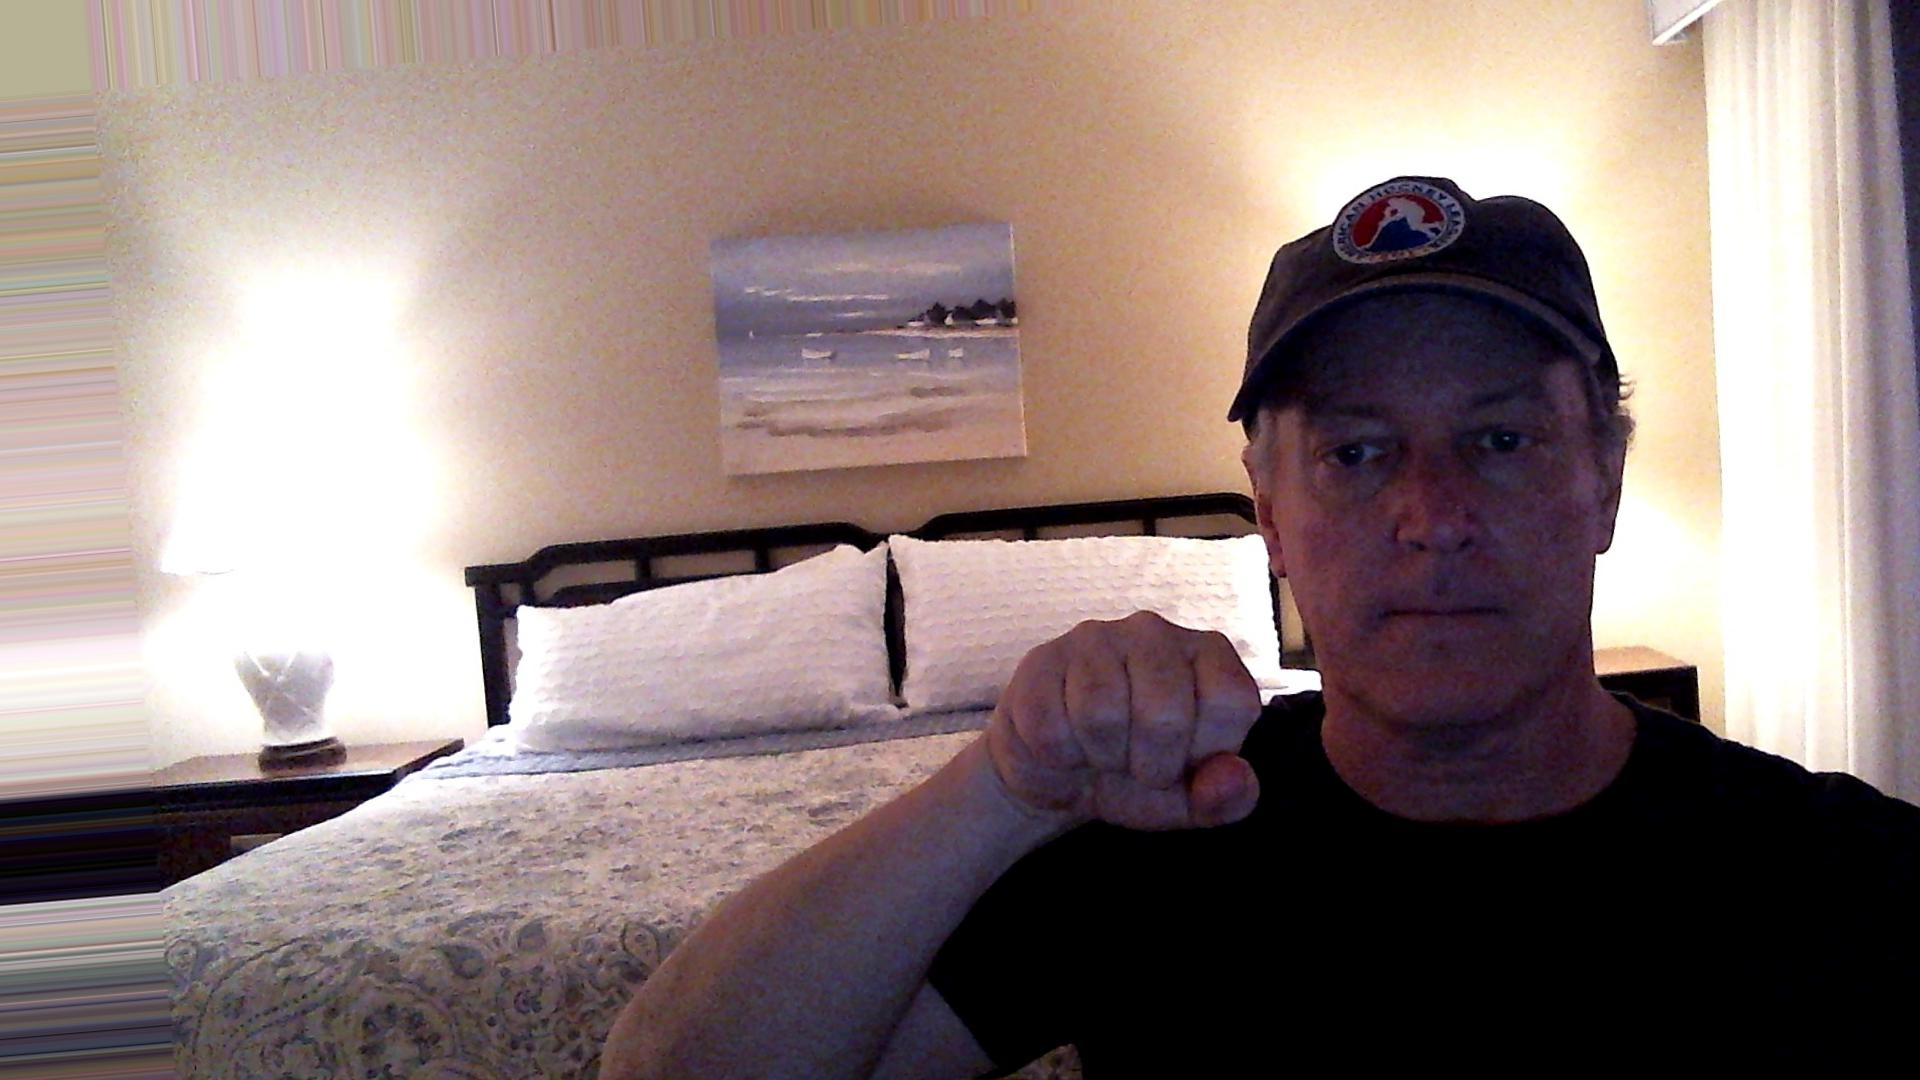Yes: (980, 593, 1282, 845)
